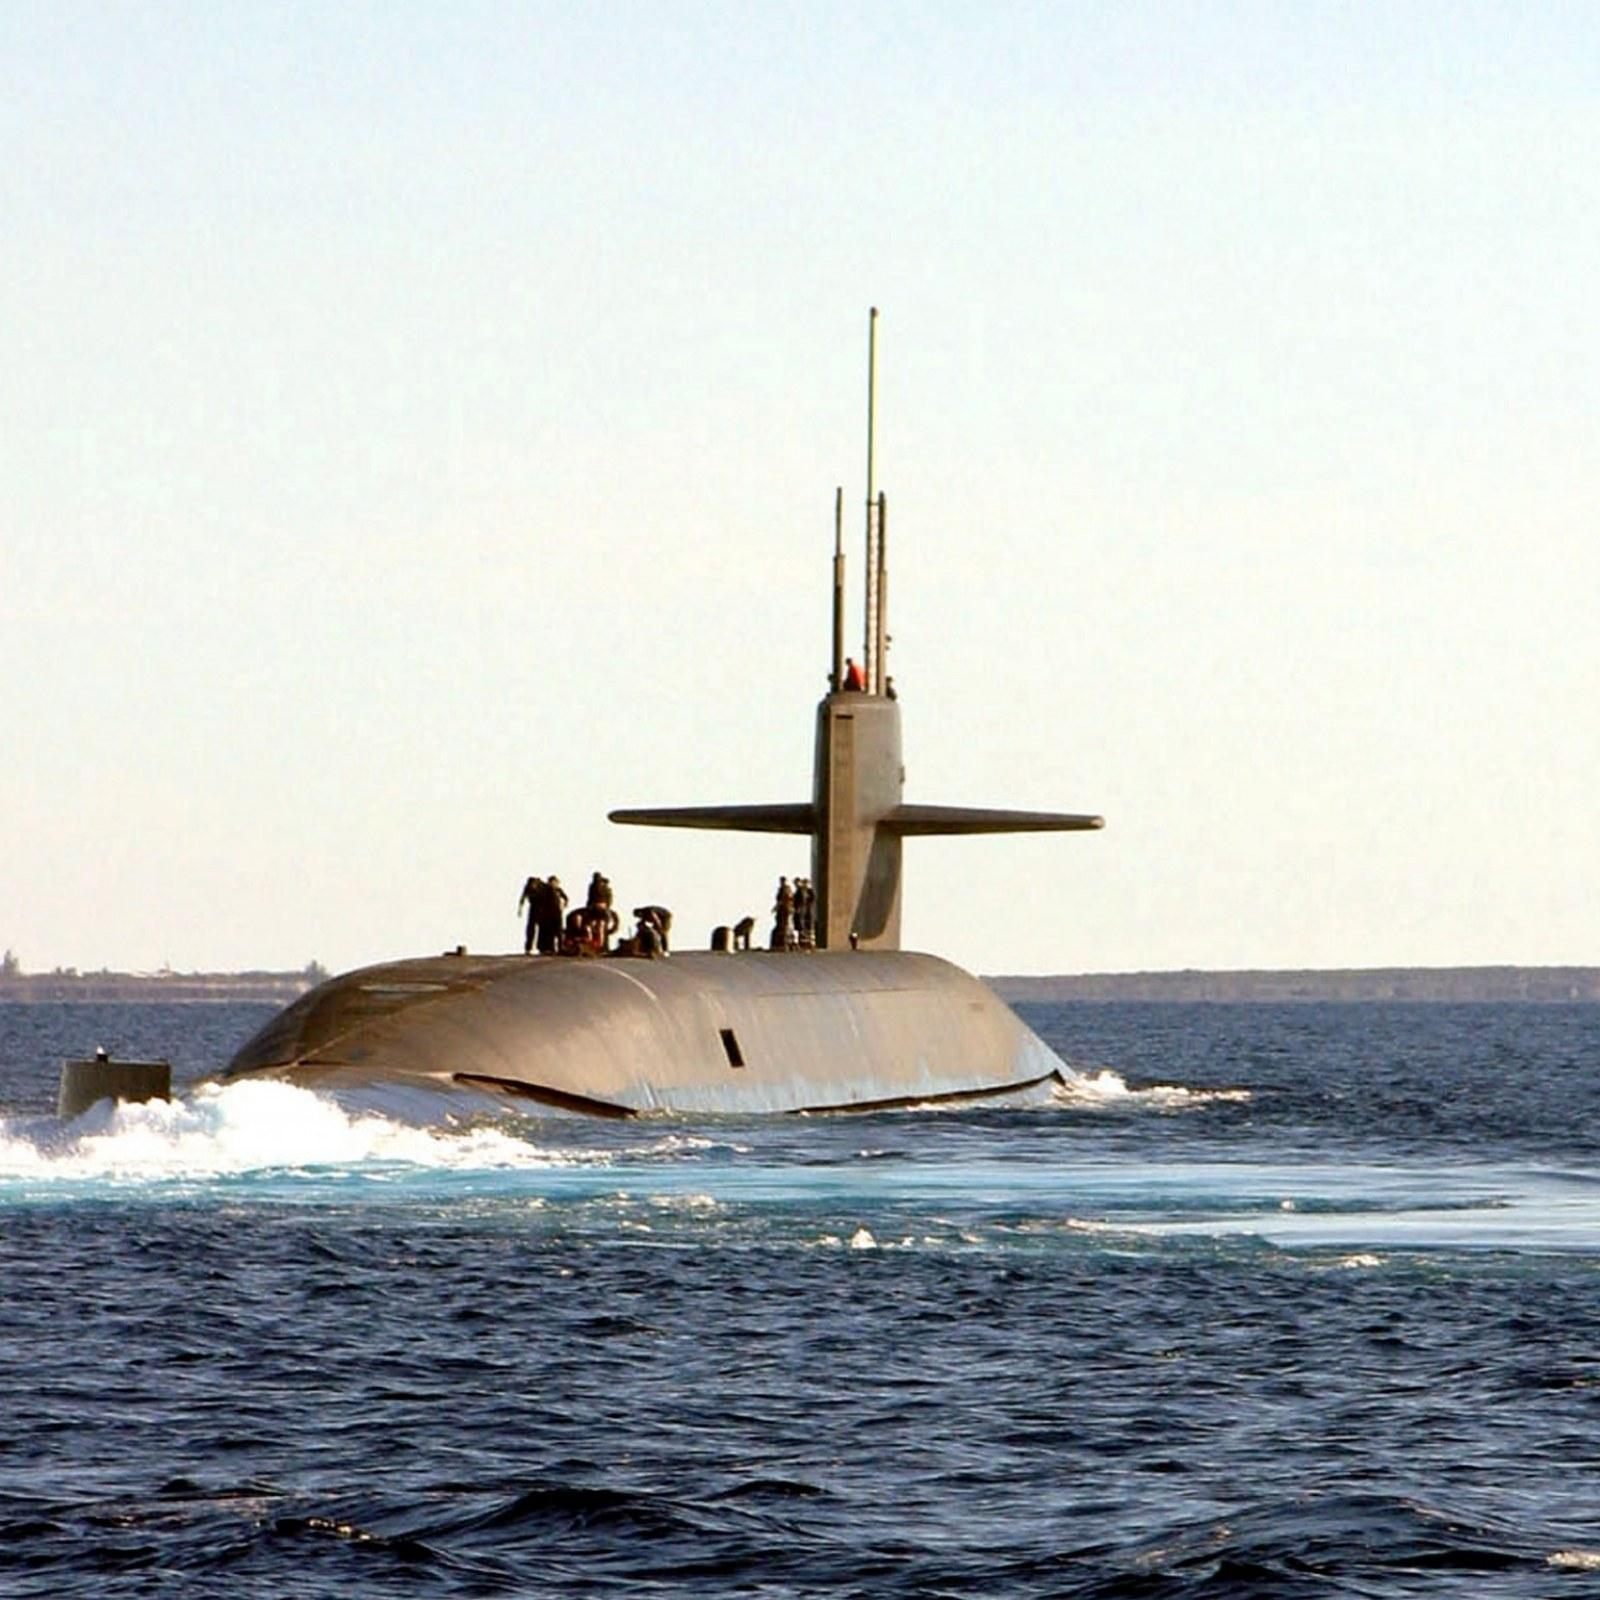Submarine: (0, 264, 1410, 1330)
